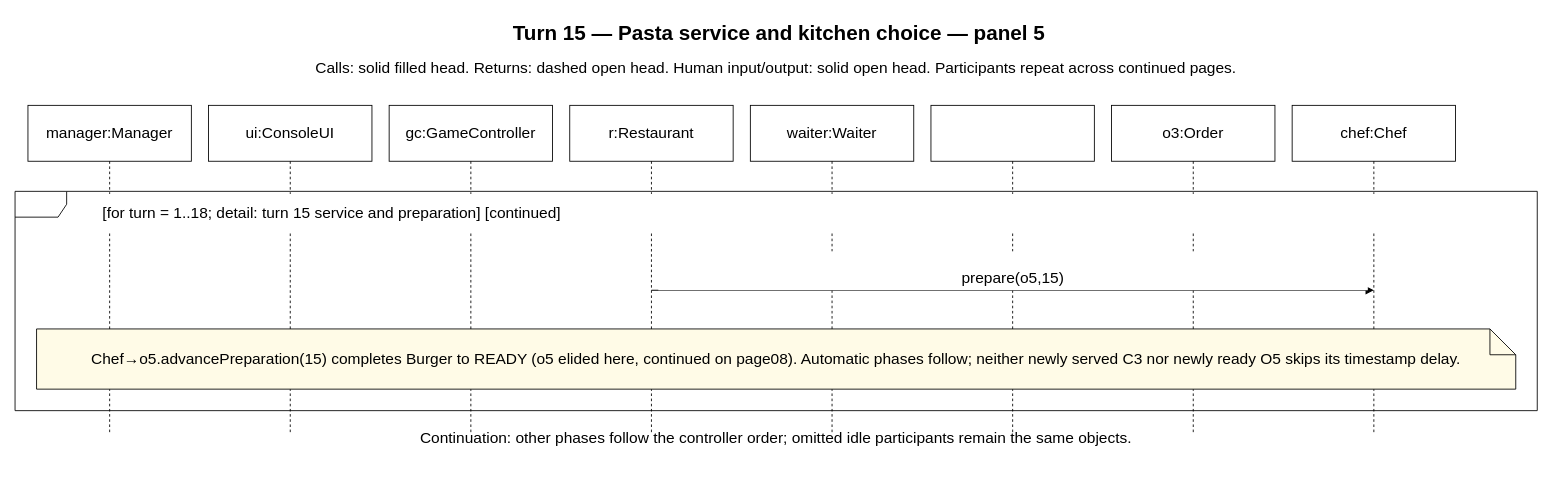
Image size: 1552x489. Some labels were removed from this diagram. The box of each missing label's shape, as (x1, y1, x2, y2) in pixels:
c3:CriticCustomer: (930, 104, 1094, 432)
loop: (14, 190, 1537, 411)
